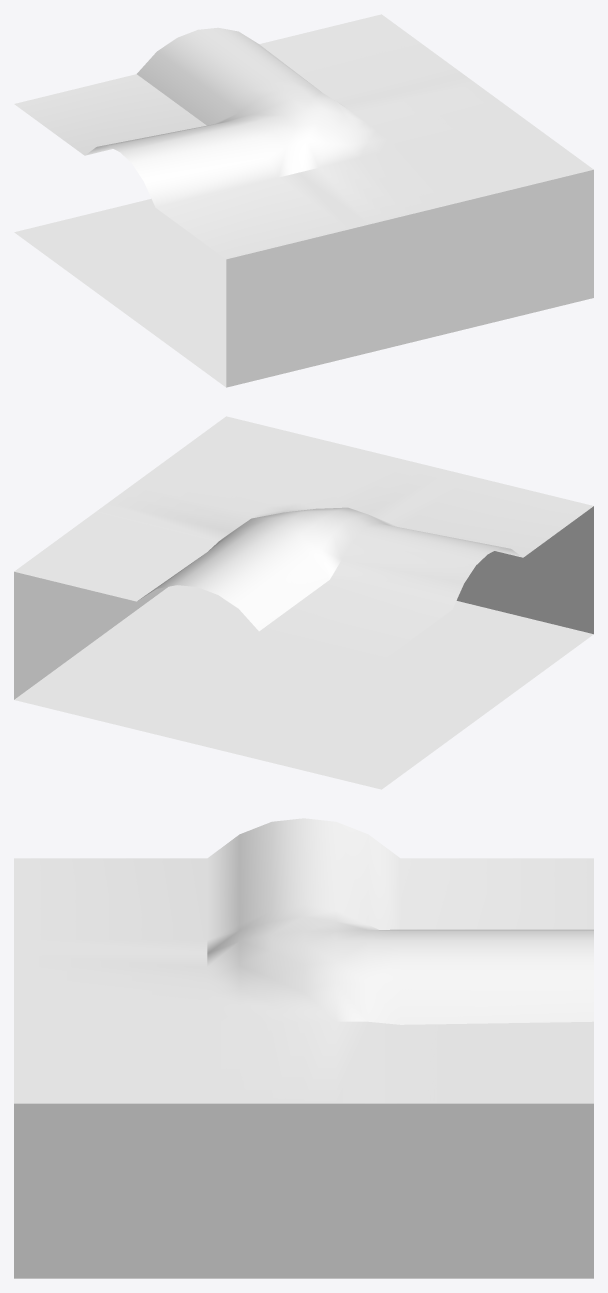
Rendered from corner piece.fbx.
3 views of the same model, one above another, from view 1: azimuth 30°, elevation 25°; view 2: azimuth 150°, elevation 25°; view 3: azimuth 270°, elevation 25° (orthographic). The views are drawn at different scales.
Parts seen in each view (by area): view 1: pPlane5; view 2: pPlane5; view 3: pPlane5.
Part boxes in pixels (x1,y1,x2,y2): pPlane5: (14, 14, 593, 387); pPlane5: (14, 416, 593, 789); pPlane5: (14, 818, 593, 1278).
Bounding box in the file's own units: 1500 × 614 × 1500.
